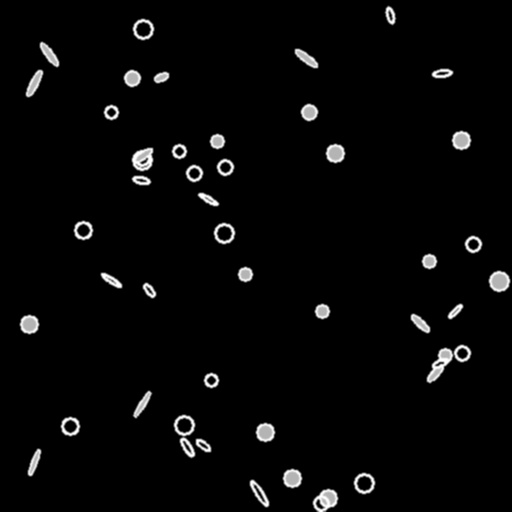pseudomonas: (293, 47, 319, 69), (38, 41, 60, 67), (132, 391, 152, 417), (249, 480, 269, 506), (25, 69, 43, 97), (425, 363, 445, 383), (410, 313, 430, 333), (178, 436, 196, 458), (27, 449, 41, 475), (133, 146, 153, 164), (100, 272, 122, 288), (198, 192, 218, 206), (447, 303, 463, 319), (194, 438, 212, 452), (142, 282, 156, 298), (431, 357, 449, 369), (153, 71, 169, 83), (385, 6, 395, 24), (132, 175, 150, 185), (433, 69, 451, 77)
synechocystis: (133, 151, 151, 169), (215, 224, 233, 242), (134, 20, 152, 38), (490, 272, 508, 290), (175, 416, 193, 434), (355, 474, 373, 492), (257, 424, 273, 440), (62, 418, 78, 434), (75, 222, 91, 238), (320, 490, 336, 506), (453, 132, 469, 148), (21, 316, 37, 332), (284, 470, 300, 486), (327, 145, 343, 161), (125, 71, 139, 85), (302, 105, 316, 119), (218, 160, 232, 174), (187, 166, 201, 180), (135, 151, 149, 165), (466, 237, 480, 251), (314, 496, 328, 510), (455, 346, 469, 360), (423, 255, 435, 267), (316, 305, 328, 317), (105, 106, 117, 118), (439, 349, 451, 361), (239, 268, 251, 280), (205, 374, 217, 386), (211, 135, 223, 147), (173, 145, 185, 157)
